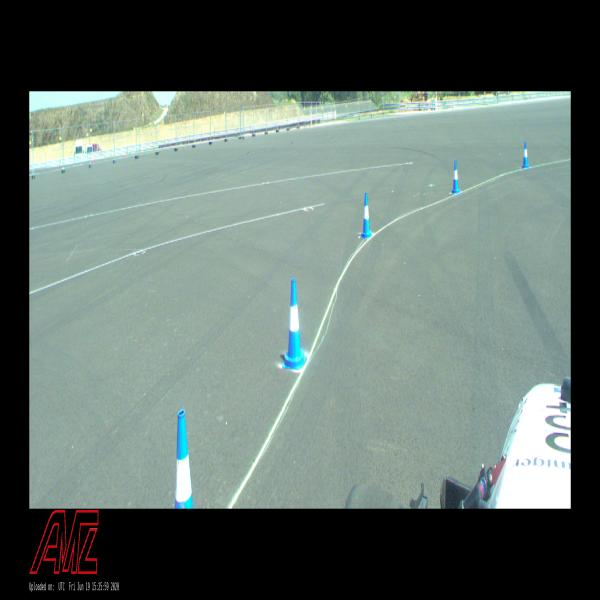blue_cone: (282, 279, 306, 369), (175, 410, 194, 508), (360, 192, 373, 239), (452, 160, 461, 194), (522, 141, 529, 168)
